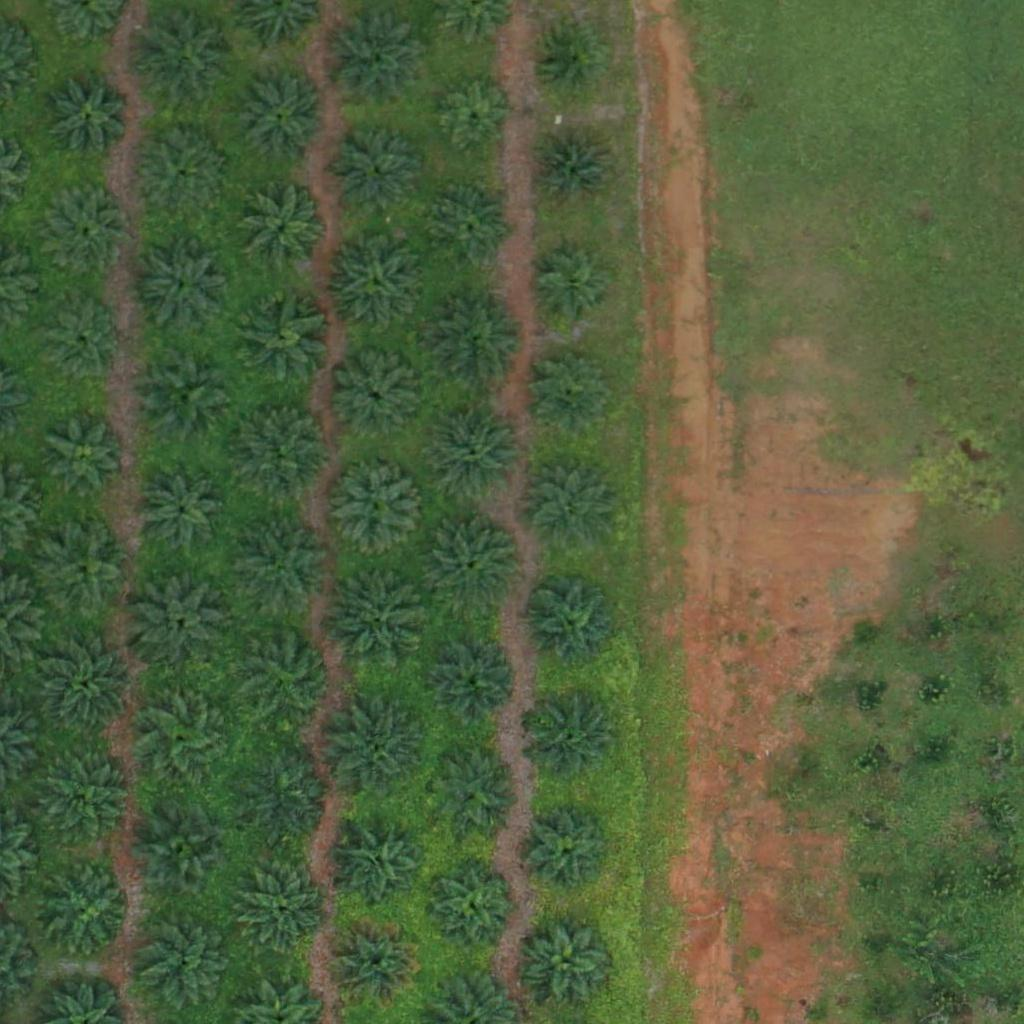Kelapa_Sawit: (322, 11, 422, 112), (36, 746, 136, 847), (136, 345, 236, 446), (231, 398, 331, 499), (236, 519, 336, 620), (327, 458, 427, 559), (326, 569, 426, 670), (327, 702, 427, 803), (429, 403, 529, 504), (422, 514, 522, 615), (521, 573, 621, 674), (137, 909, 237, 1010), (425, 292, 525, 392), (325, 231, 425, 331), (231, 288, 331, 388), (136, 8, 236, 108), (131, 235, 231, 335), (32, 519, 132, 619), (130, 567, 230, 667), (239, 628, 339, 728), (238, 748, 338, 848), (333, 354, 421, 443), (527, 247, 615, 335), (430, 184, 518, 272), (331, 128, 419, 216), (138, 468, 226, 556), (137, 690, 225, 778), (140, 809, 228, 897), (427, 638, 515, 726), (529, 694, 617, 782), (525, 808, 613, 896), (526, 918, 614, 1006), (240, 865, 328, 953), (531, 128, 618, 216), (236, 76, 323, 164), (239, 187, 326, 275), (139, 136, 226, 224), (44, 639, 131, 727), (431, 750, 518, 838), (527, 348, 614, 436), (527, 463, 614, 551), (336, 822, 423, 910), (428, 861, 515, 949), (332, 919, 419, 1007), (40, 868, 127, 956), (53, 82, 128, 158), (51, 193, 126, 269), (48, 416, 123, 492), (439, 82, 514, 157), (43, 308, 118, 383), (536, 26, 599, 89)
